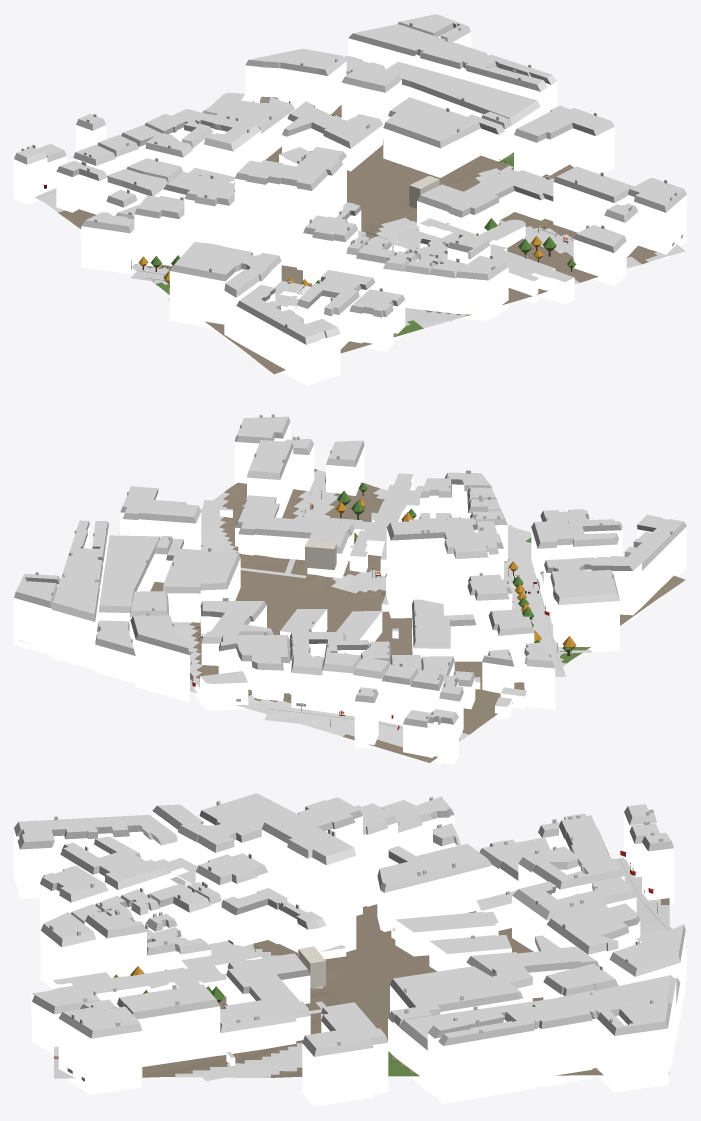
The model's file is zone_I5.glb.
The picture shows the model from 3 angles, top to bottom: view 1: azimuth 30°, elevation 25°; view 2: azimuth 150°, elevation 25°; view 3: azimuth 270°, elevation 25°; orthographic projection. The views are drawn at different scales.
Parts seen in each view (by area): view 1: zone_I5_batiments, zone_I5_terrain, zone_I5_sol_NOCOL, zone_I5_decor_NOCOL; view 2: zone_I5_batiments, zone_I5_terrain, zone_I5_sol_NOCOL, zone_I5_decor_NOCOL; view 3: zone_I5_batiments, zone_I5_terrain, zone_I5_sol_NOCOL.
Part boxes in pixels (box(x1,y1,x2,y2)): zone_I5_batiments: box(14, 14, 686, 385); zone_I5_terrain: box(36, 105, 685, 374); zone_I5_sol_NOCOL: box(34, 165, 631, 321); zone_I5_decor_NOCOL: box(131, 114, 576, 287); zone_I5_batiments: box(14, 414, 686, 764); zone_I5_terrain: box(19, 468, 685, 762); zone_I5_sol_NOCOL: box(174, 473, 591, 740); zone_I5_decor_NOCOL: box(190, 482, 576, 726); zone_I5_batiments: box(14, 793, 686, 1106); zone_I5_terrain: box(54, 859, 669, 1078); zone_I5_sol_NOCOL: box(56, 858, 685, 1080).
Size of the model in its own units: 231 by 47.13 by 233.
